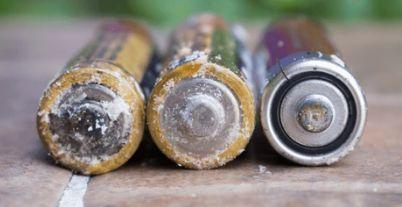battery: (35, 18, 157, 176), (252, 14, 367, 168), (147, 12, 257, 172)
